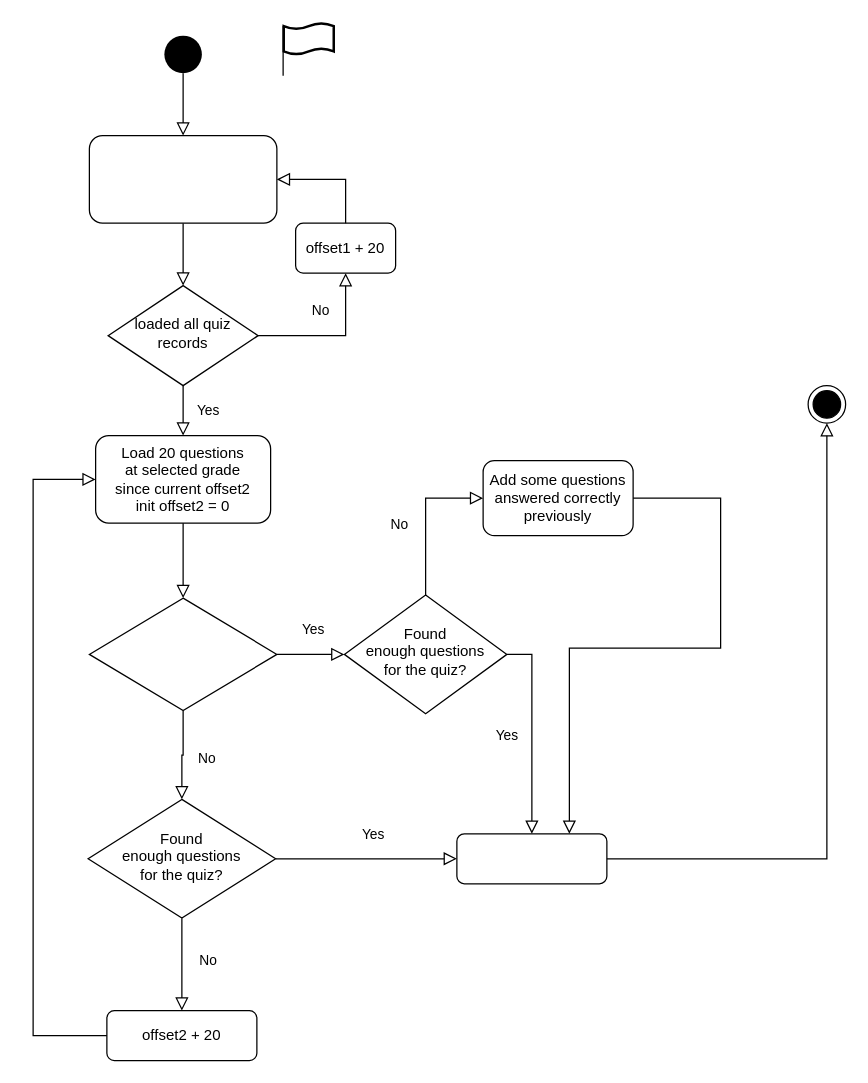
Image size: 868x1083. Some labels were removed from this diagram. Here are the shapes that lost their labels. From the top down, the box of each, then its label:
(88, 134, 277, 223): Load 20 Quiz records at selected grade since current offset1 init offset1 = 0
(88, 597, 277, 711): Loaded all questions?
(456, 832, 607, 884): Start Quiz
